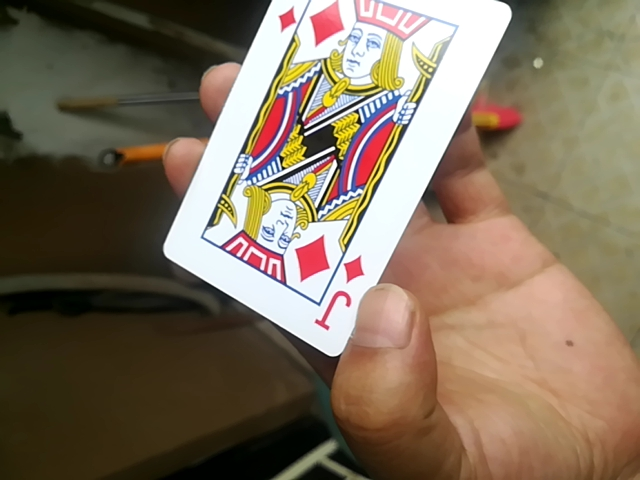fk j: (160, 5, 511, 360)
